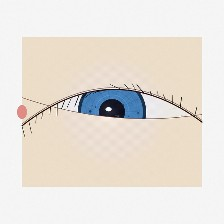pterygium_lesion: (164, 98, 201, 126)
